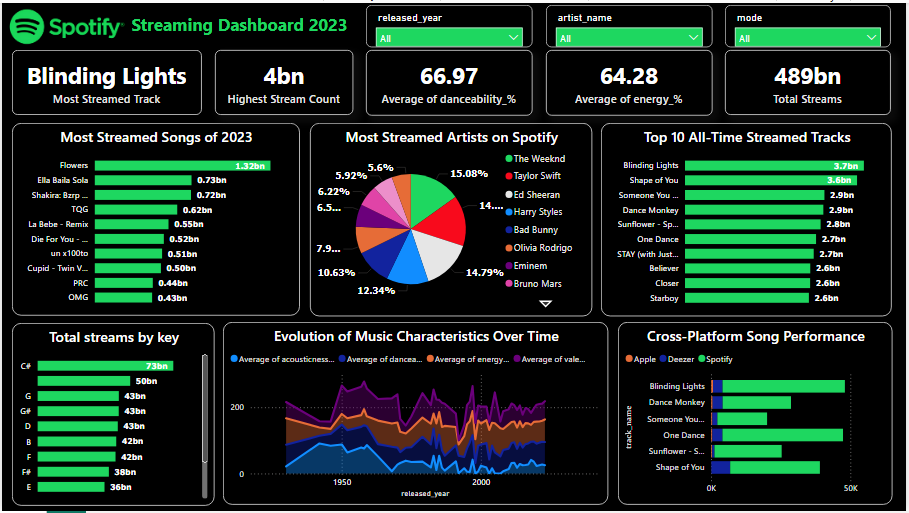

Layout of this report page (visuals, bound fields, positions):
{"tool":"powerbi","page":{"name":"Page 1","canvas":[1280,720],"ordinal":0},"visuals":[{"type":"image","box":[0,0,184.3,66.6],"z":0},{"type":"clusteredBarChart","title":"Most Streamed Songs of 2023","fields":{"Y":["Sum(spotify-2023.streams)"],"Category":["spotify-2023.track_name"]},"box":[14.3,170.2,407.6,273.2],"z":1000},{"type":"cardVisual","fields":{"Data":["Avg(spotify-2023.danceability_%)"]},"box":[516.3,67.2,236,93],"z":2000},{"type":"cardVisual","fields":{"Data":["Avg(spotify-2023.energy_%)"]},"box":[770.9,67.2,236,93],"z":3000},{"type":"cardVisual","fields":{"Data":["Sum(spotify-2023.streams)"]},"box":[1025.4,67.2,234.5,91.5],"z":4000},{"type":"pieChart","title":"Most Streamed Artists on Spotify","fields":{"Category":["spotify-2023.artist(s)_name"],"Y":["Sum(spotify-2023.streams)"]},"box":[436.5,170,399.7,273.5],"z":5000},{"type":"cardVisual","fields":{"Data":["Max(spotify-2023.streams)"]},"box":[301.8,67.2,195.9,91.5],"z":6000},{"type":"cardVisual","fields":{"Data":["Min(spotify-2023.track_name)"]},"box":[14.3,67.2,268.9,91.5],"z":7000},{"type":"clusteredBarChart","fields":{"Category":["spotify-2023.key"],"Y":["Sum(spotify-2023.streams)"]},"box":[14.3,453.4,287.5,258.9],"z":8000},{"type":"stackedAreaChart","title":"Evolution of Music Characteristics Over Time","fields":{"Category":["spotify-2023.released_year"],"Y":["Avg(spotify-2023.acousticness_%)","Avg(spotify-2023.danceability_%)","Avg(spotify-2023.energy_%)","Avg(spotify-2023.valence_%)"]},"box":[313.2,451.9,546.3,258.9],"z":9000},{"type":"clusteredBarChart","title":"Top 10 All-Time Streamed Tracks","fields":{"Category":["spotify-2023.track_name"],"Y":["Sum(spotify-2023.streams)"]},"box":[848.9,170,412.4,273.5],"z":10000},{"type":"barChart","title":"Cross-Platform Song Performance","fields":{"Category":["spotify-2023.track_name"],"Y":["Sum(spotify-2023.in_apple_playlists)","Sum(spotify-2023.in_deezer_playlists)","Sum(spotify-2023.in_spotify_playlists)"]},"box":[872.4,451.9,389,258.9],"z":11000},{"type":"slicer","fields":{"Values":["spotify-2023.artist(s)_name"]},"box":[770.9,2.9,236,60.1],"z":12000},{"type":"slicer","fields":{"Values":["spotify-2023.mode"]},"box":[1025.4,2.9,234.5,60.1],"z":13000},{"type":"slicer","fields":{"Values":["spotify-2023.released_year"]},"box":[516.3,2.9,236,60.1],"z":14000},{"type":"textbox","box":[175.9,8.6,321.8,48.6],"z":15000}]}

Visuals, with their boxes in screenshot pixels (x1, y1, x2, y2), scaled from the page's 1280x720 canvas onto the 909x513 screenshot:
image: 0,0,131,47
"Most Streamed Songs of 2023" clusteredBarChart: 10,121,300,316
cardVisual - Avg(spotify-2023.danceability_%): 367,48,534,114
cardVisual - Avg(spotify-2023.energy_%): 547,48,715,114
cardVisual - Sum(spotify-2023.streams): 728,48,895,113
"Most Streamed Artists on Spotify" pieChart: 310,121,594,316
cardVisual - Max(spotify-2023.streams): 214,48,353,113
cardVisual - Min(spotify-2023.track_name): 10,48,201,113
clusteredBarChart - spotify-2023.key x Sum(spotify-2023.streams): 10,323,214,508
"Evolution of Music Characteristics Over Time" stackedAreaChart: 222,322,610,506
"Top 10 All-Time Streamed Tracks" clusteredBarChart: 603,121,896,316
"Cross-Platform Song Performance" barChart: 620,322,896,506
slicer - spotify-2023.artist(s)_name: 547,2,715,45
slicer - spotify-2023.mode: 728,2,895,45
slicer - spotify-2023.released_year: 367,2,534,45
textbox: 125,6,353,41
